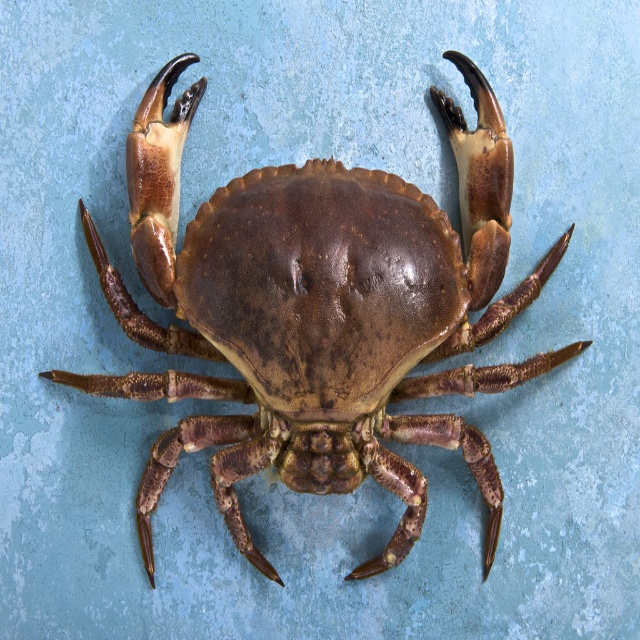Crab: (34, 48, 595, 593)
